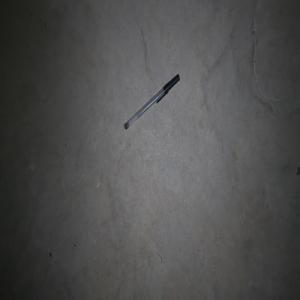Pen: (124, 73, 179, 129)
